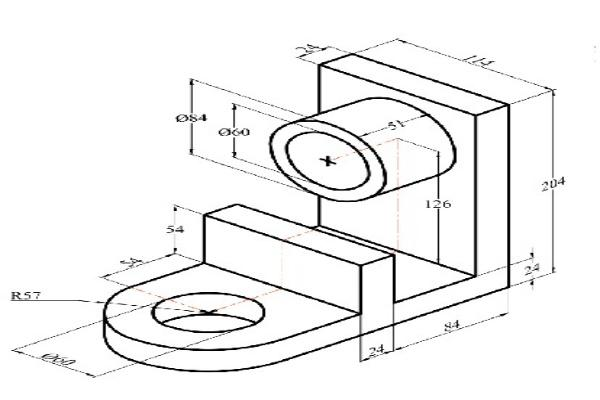dimensions: (39, 345, 78, 372), (538, 171, 570, 198), (422, 195, 462, 216), (461, 50, 497, 73), (173, 108, 210, 130), (215, 123, 254, 143), (362, 339, 391, 364), (115, 253, 149, 274), (294, 36, 324, 58), (8, 286, 45, 303), (381, 116, 409, 136), (439, 319, 469, 337), (161, 219, 189, 238), (519, 261, 547, 279)
